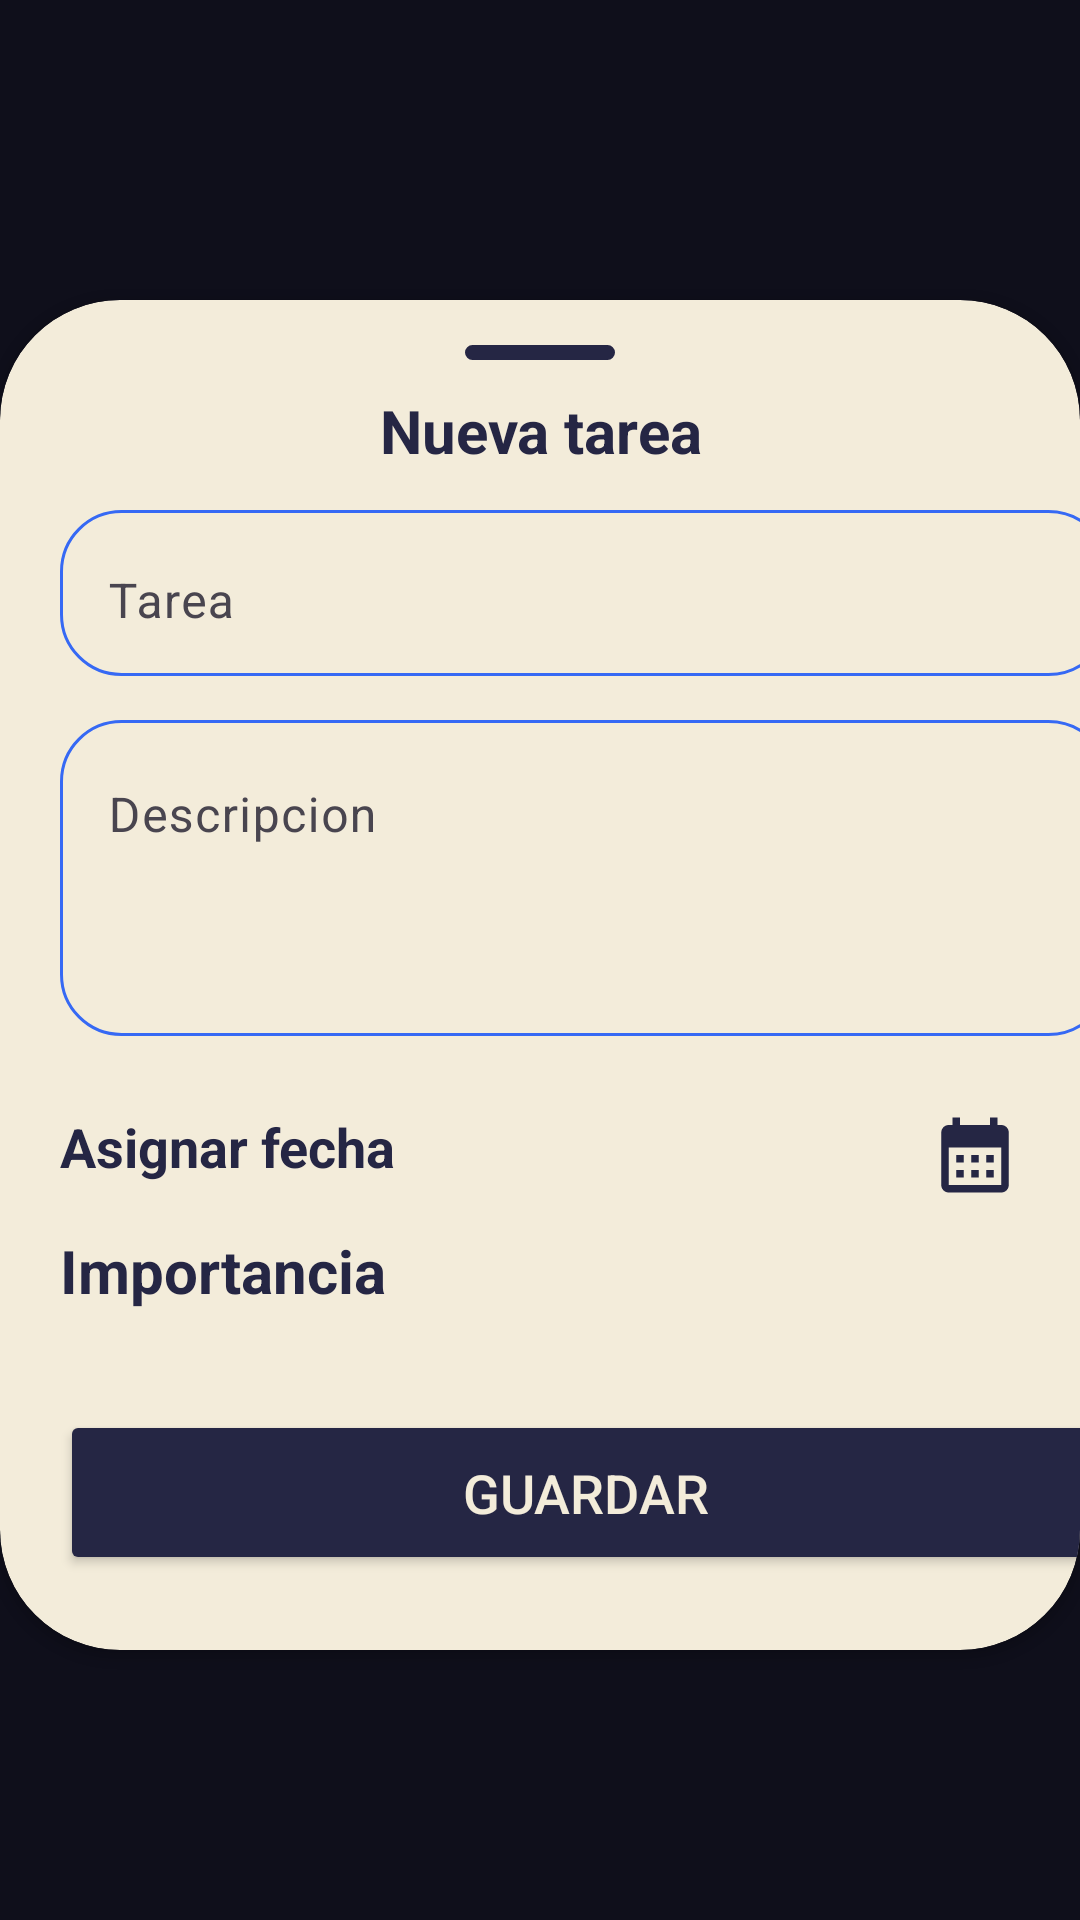

Screen size 1080w x 1920h. Icon name, then its center in pixels as point (x, y):
calendar: point (975, 1155)
